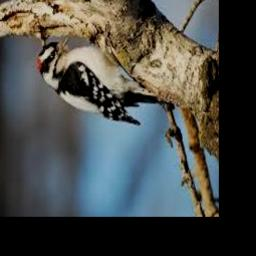Woodpecker: (38, 34, 167, 125)
